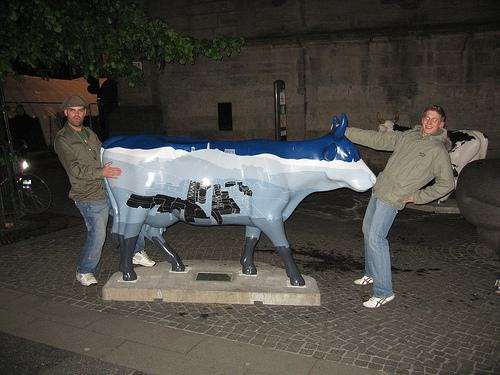car: (1, 152, 54, 217)
cow: (101, 114, 378, 287), (374, 115, 489, 205)
person: (350, 105, 458, 310), (55, 96, 122, 287)
